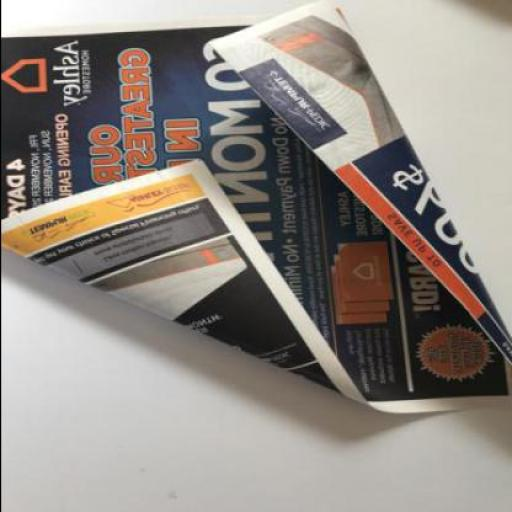paper: (1, 0, 511, 414)
